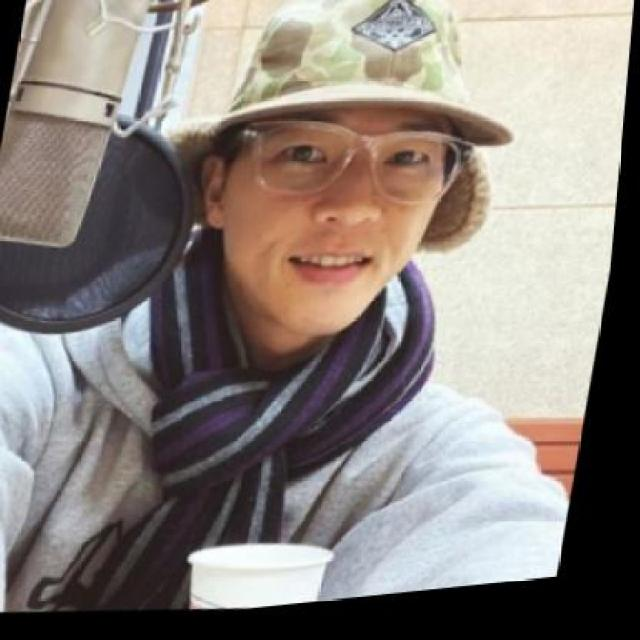hat: (174, 0, 551, 198)
